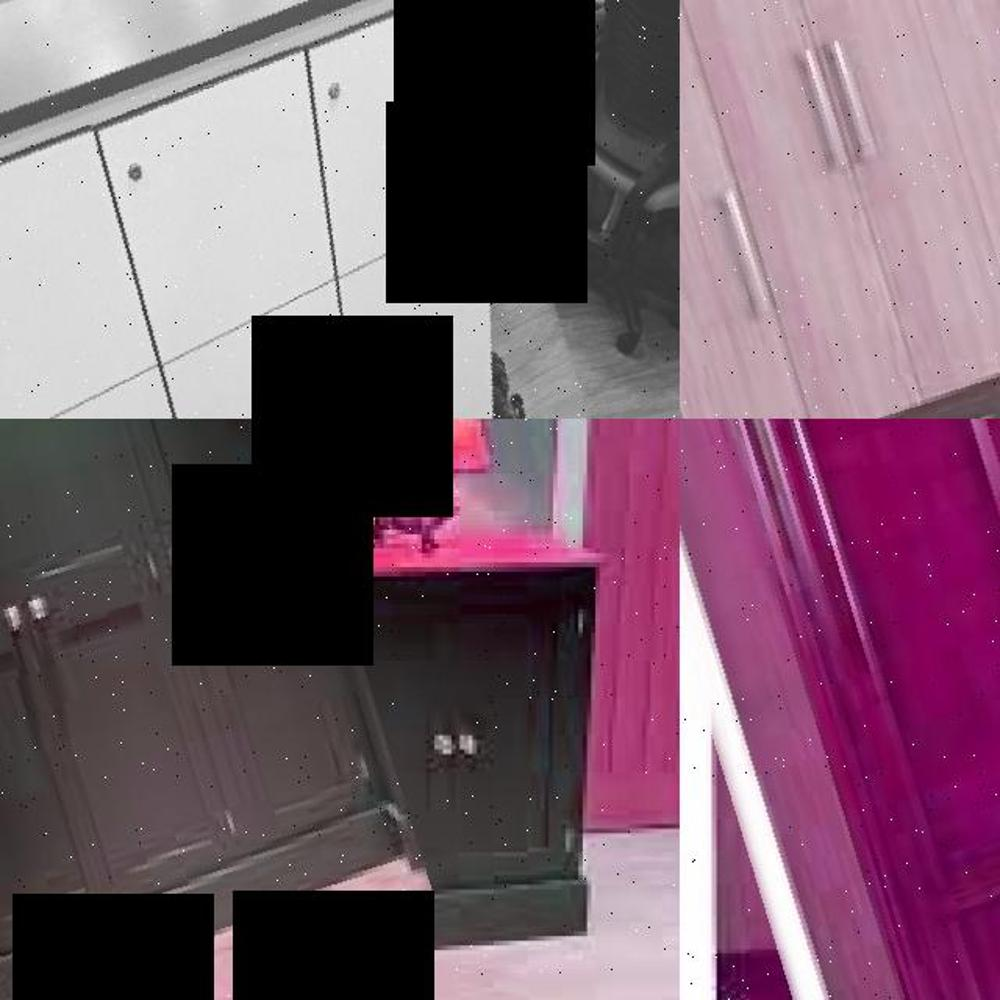cabinet: (0, 0, 605, 419), (0, 419, 375, 1000), (680, 419, 1000, 1000), (304, 532, 625, 969), (680, 0, 1000, 419)
